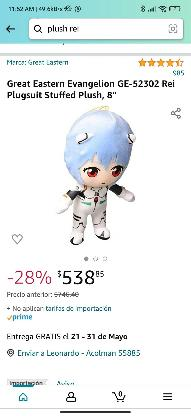rei-plush: (47, 104, 150, 256)
